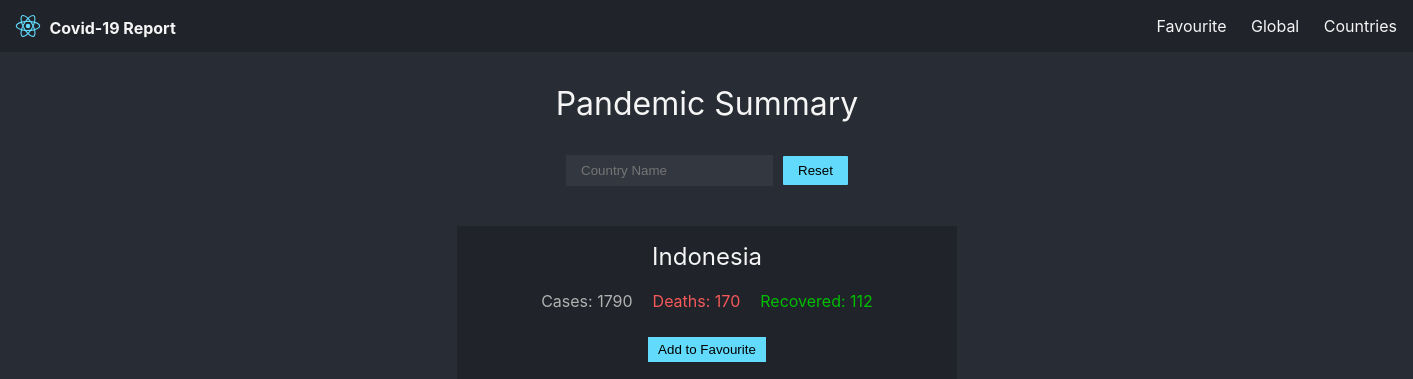
Testing Navbar Links, Goto Favourite Page, Home Page, Country Page › Test NavBar Link to Global
Click the link with test id "linkToGlobal" at (1275, 26), box [1251, 16, 1299, 36]
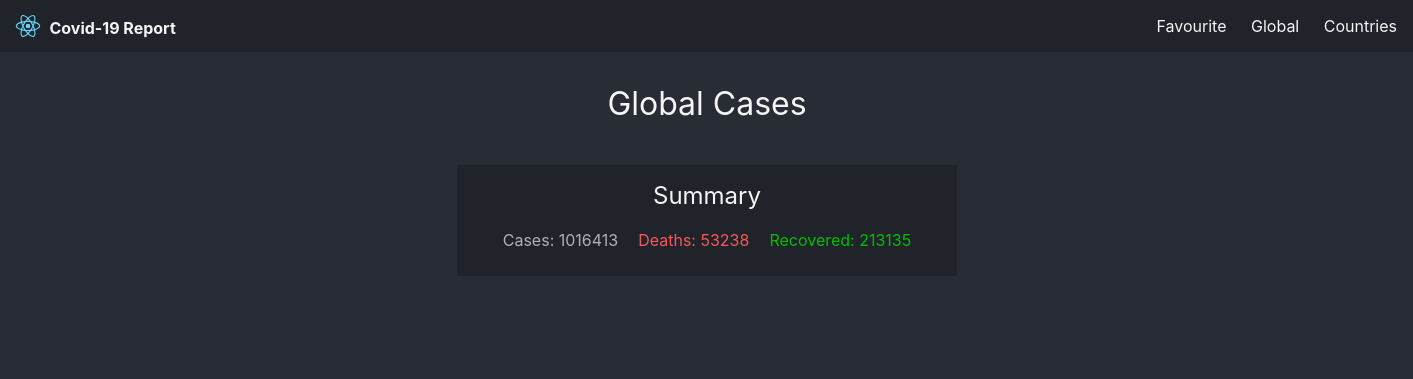
Check: the heading "Global Cases" is shown, box [607, 84, 807, 123]
